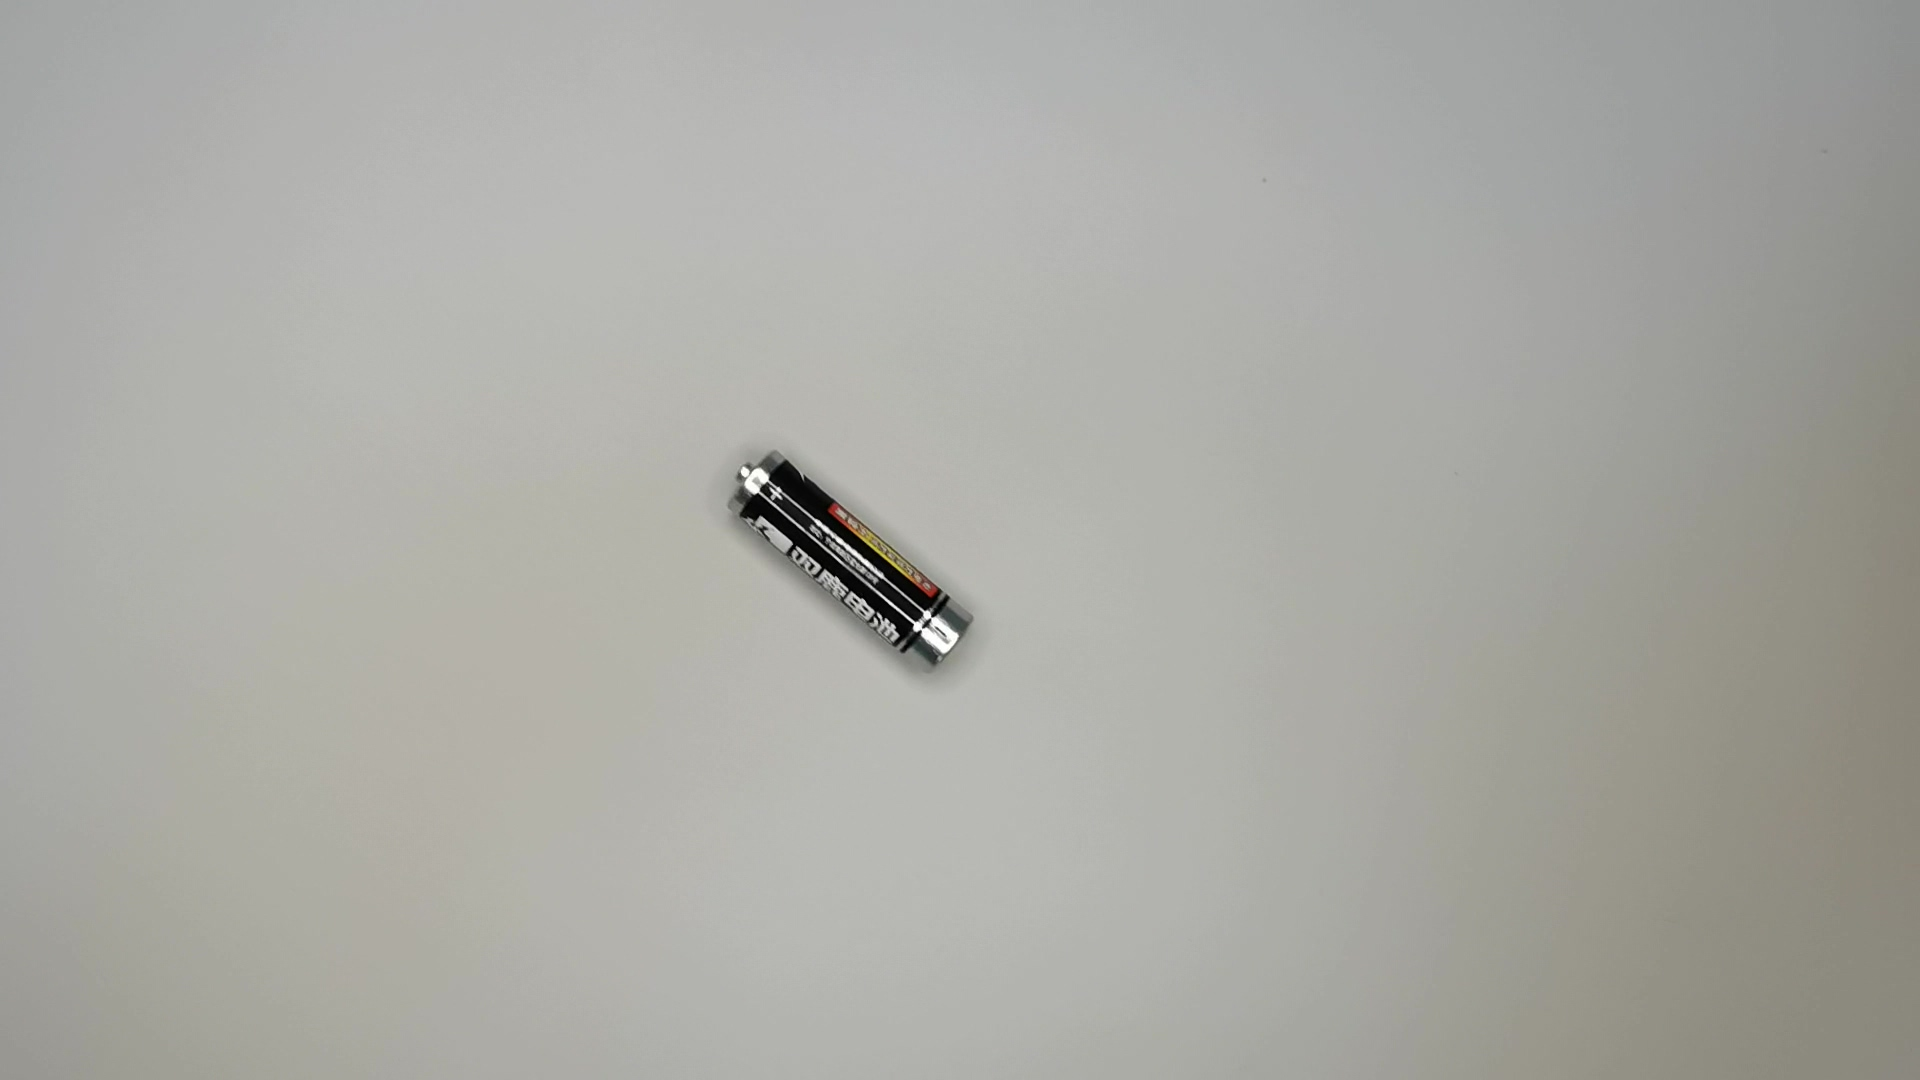battery: (725, 440, 980, 680)
